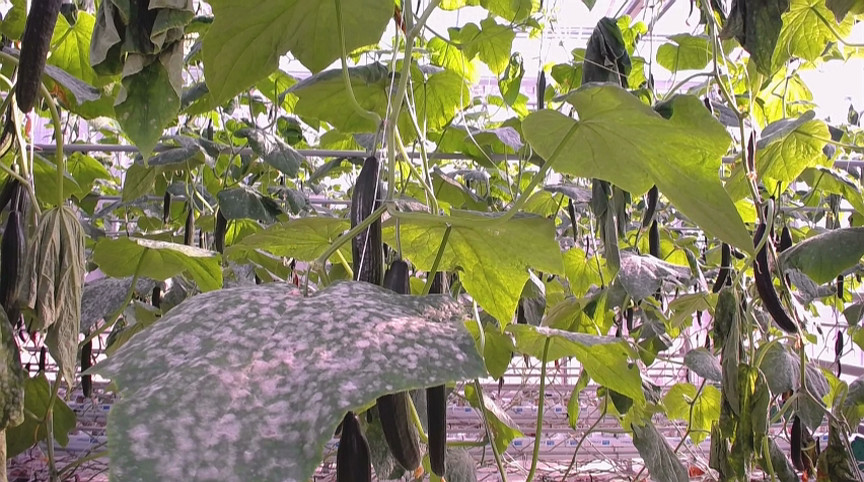cucumber: (16, 1, 61, 113), (756, 223, 799, 333), (353, 155, 382, 284), (378, 392, 420, 471), (1, 211, 27, 322), (337, 412, 374, 482), (426, 382, 448, 478), (81, 336, 93, 400), (184, 209, 195, 248)
